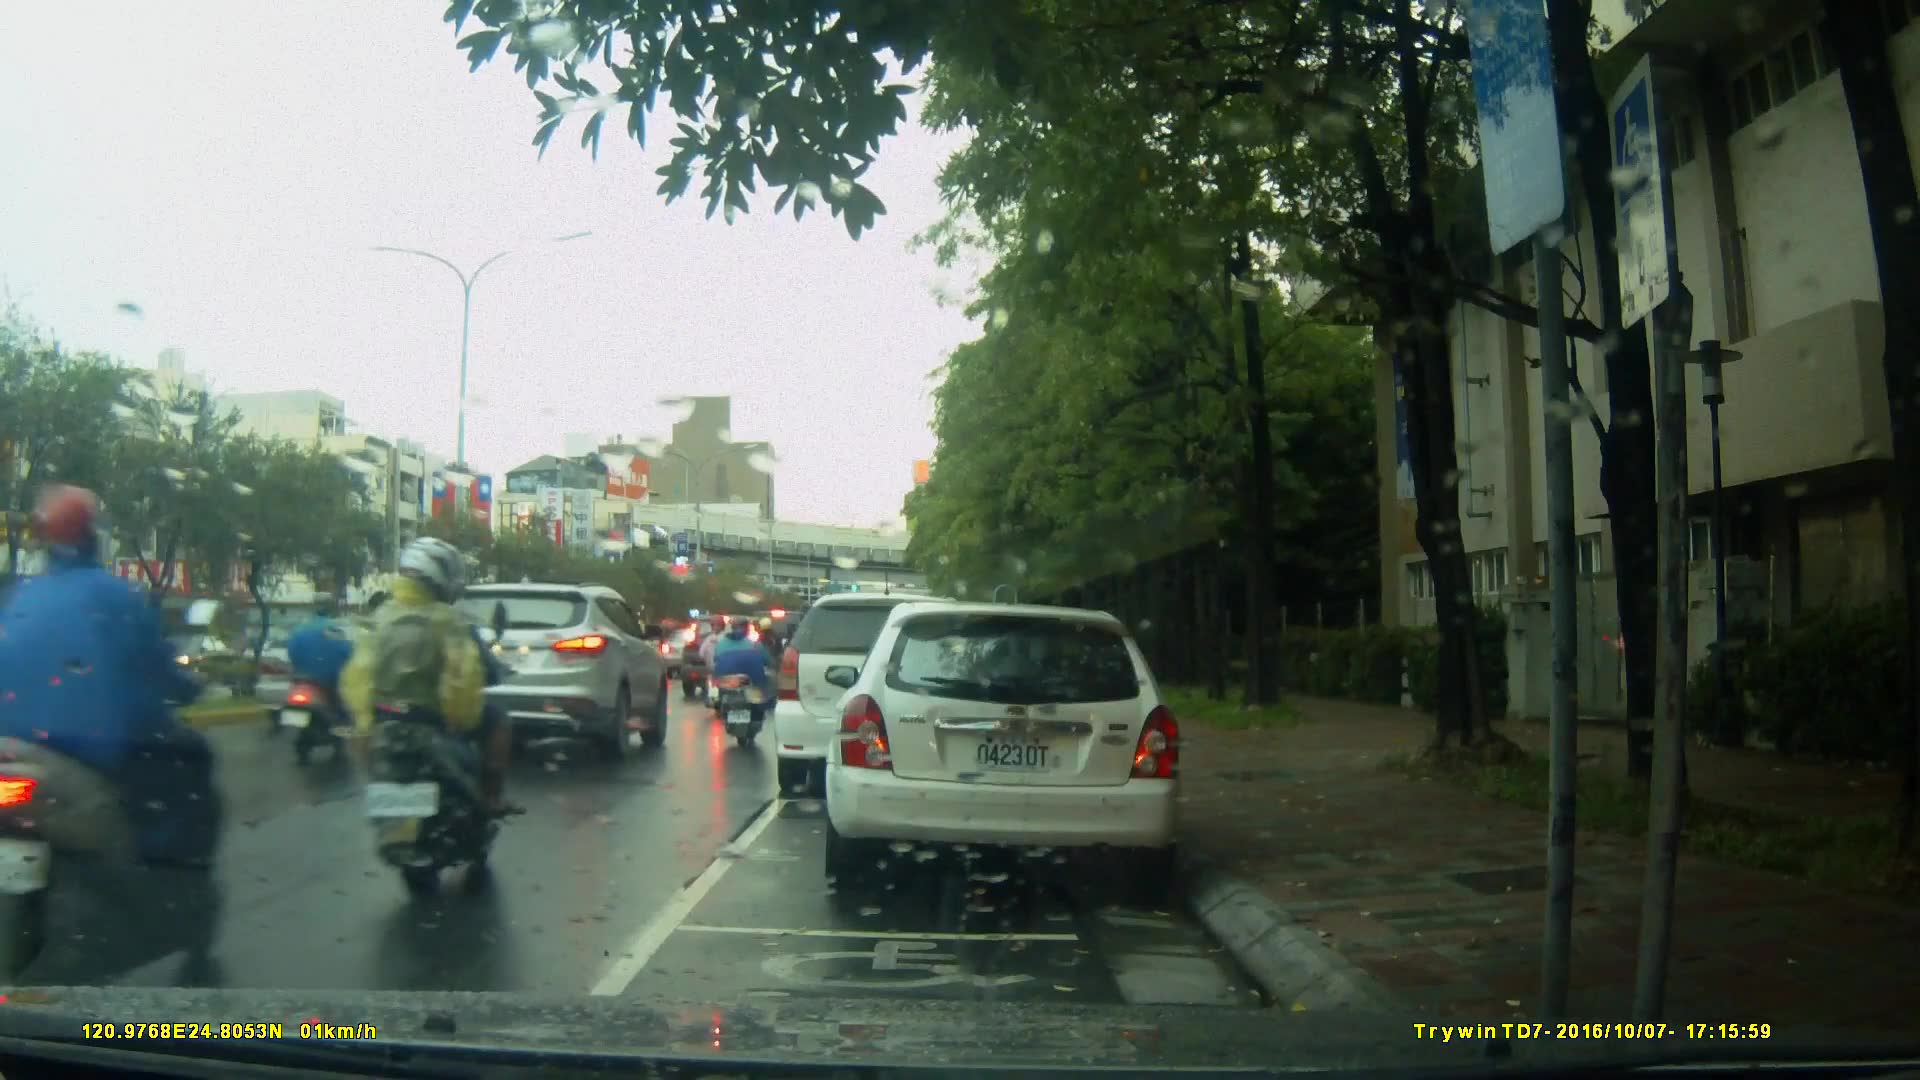rider: (1, 486, 233, 1031), (351, 539, 515, 890), (276, 582, 371, 768), (711, 613, 779, 749), (695, 610, 741, 725), (750, 618, 788, 703)
vehicle: (822, 604, 1188, 883), (394, 577, 670, 768), (774, 595, 995, 802), (20, 576, 168, 697), (679, 613, 765, 704)
